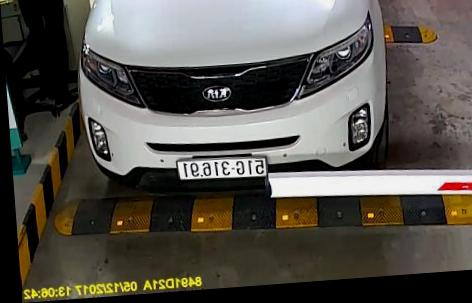License_Plate: (174, 150, 270, 187)
